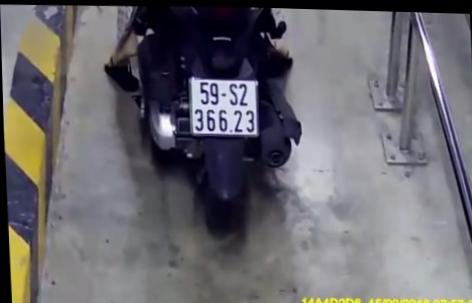LP: (188, 72, 260, 137)
